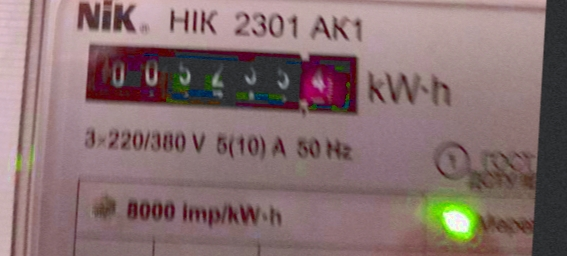0: (142, 52, 164, 86), (110, 54, 129, 86)
2: (208, 53, 231, 88)
3: (240, 53, 266, 87)
4: (309, 57, 333, 94)
5: (274, 54, 298, 91), (176, 52, 197, 86)
screen: (69, 23, 376, 127)
